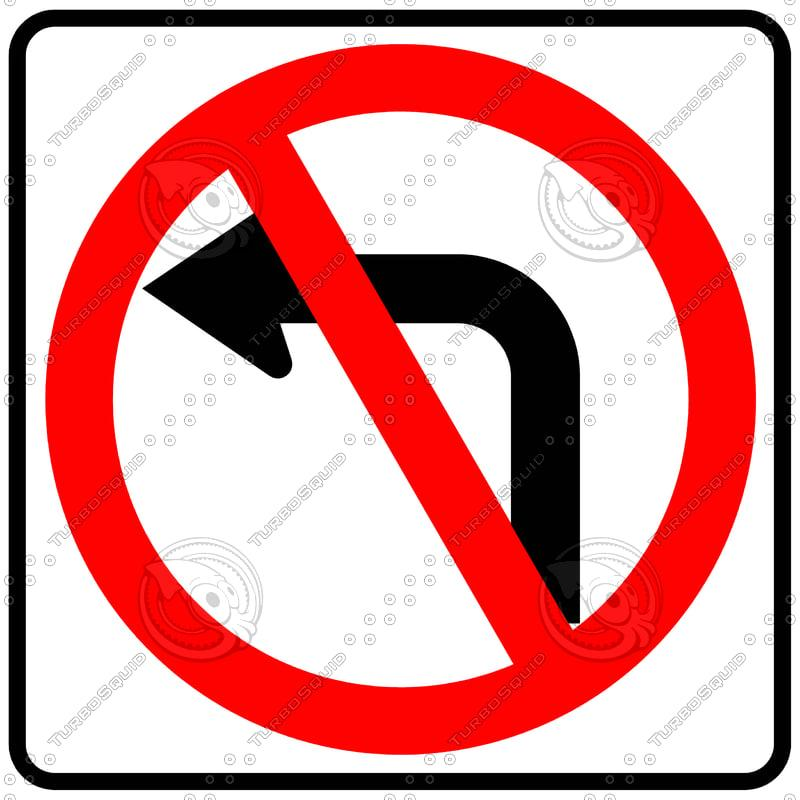no_left_turn: (45, 41, 759, 756)
